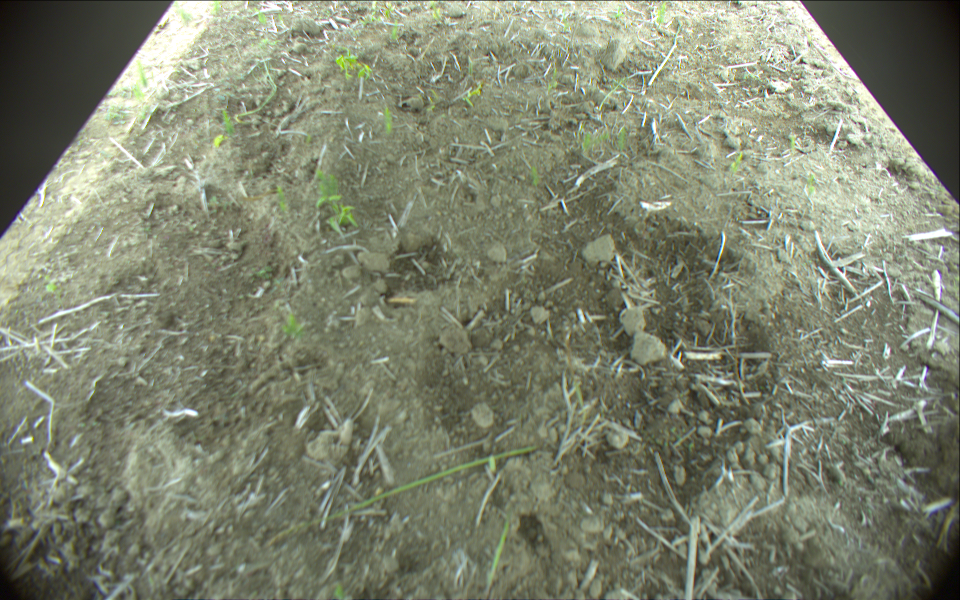aspa: (260, 443, 534, 545), (235, 51, 278, 118), (649, 22, 684, 85), (484, 521, 507, 597)
